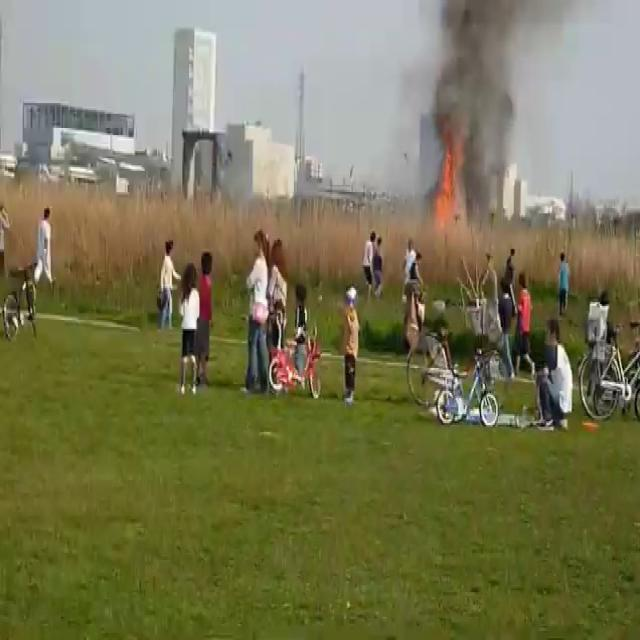Fire: (428, 137, 462, 235)
Smoke: (410, 1, 567, 202)
